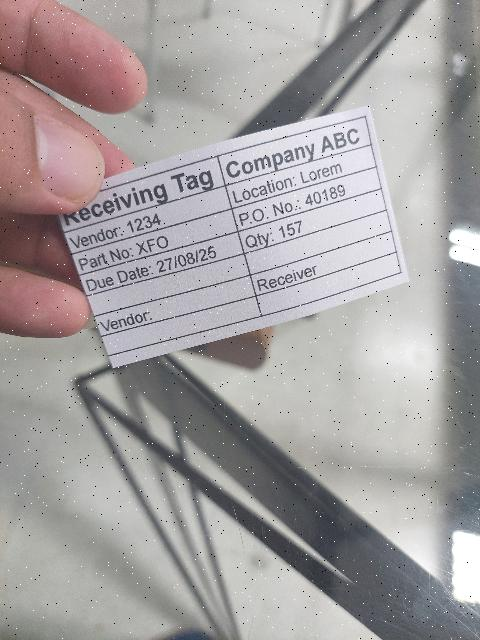PO no: (233, 168, 382, 230)
part no: (73, 210, 238, 275)
qty: (238, 188, 386, 255)
tags: (59, 106, 410, 371)
